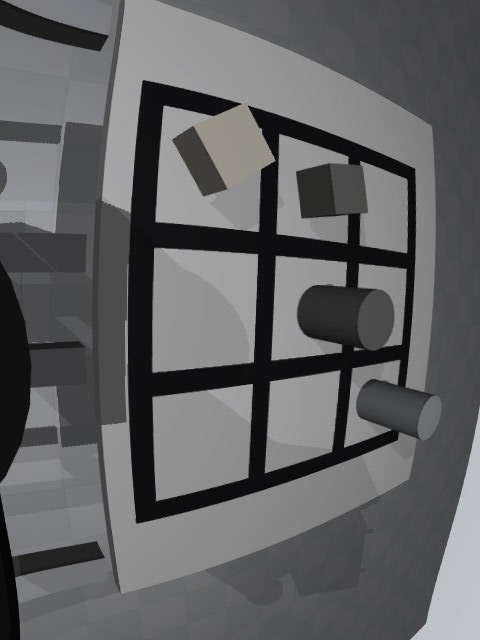can: (356, 379, 442, 440)
cube: (296, 163, 368, 219)
cylinder: (297, 285, 394, 350)
foam: (172, 102, 276, 197)
